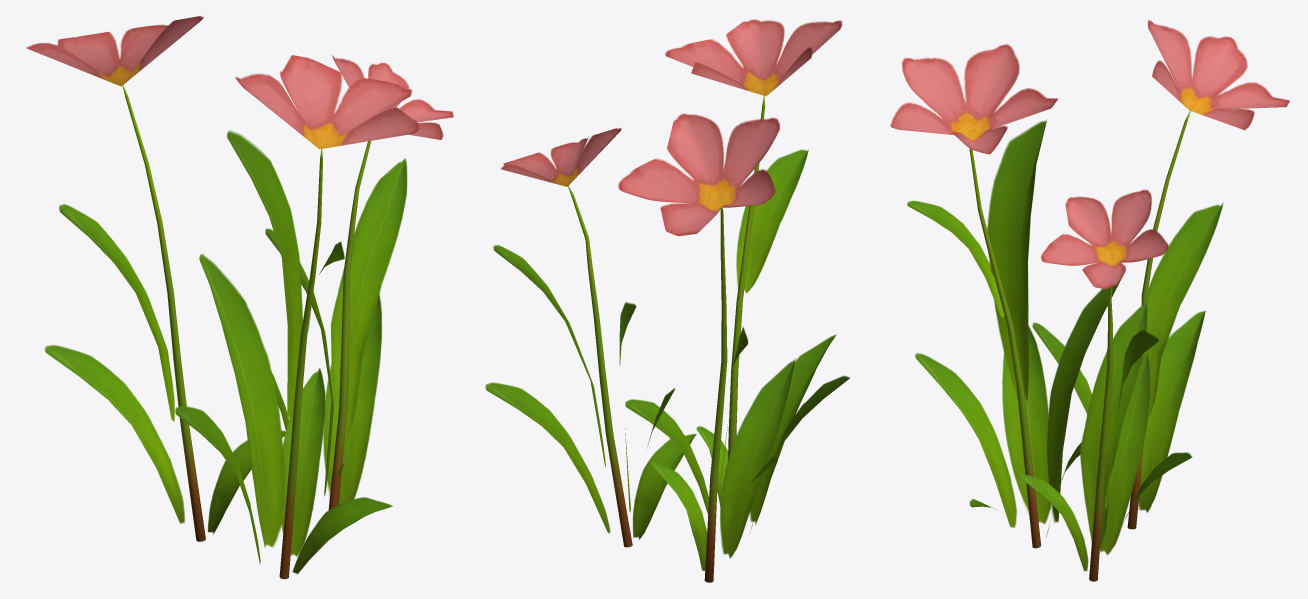
Rendered from n_flower_group2.glb.
3 views of the same model, side by side, from view 1: azimuth 30°, elevation 25°; view 2: azimuth 150°, elevation 25°; view 3: azimuth 270°, elevation 25° (orthographic). The views are drawn at different scales.
Visible parts, largest first — view 1: Flower_3_Group; view 2: Flower_3_Group; view 3: Flower_3_Group.
Boxes of the visible parts, x1,y1,x2,y2 form: Flower_3_Group: (26, 16, 453, 579); Flower_3_Group: (485, 19, 849, 582); Flower_3_Group: (890, 20, 1289, 581).
Bounding box in the file's own units: 1.49 × 2.05 × 1.59.
2 materials, 2 textured.
